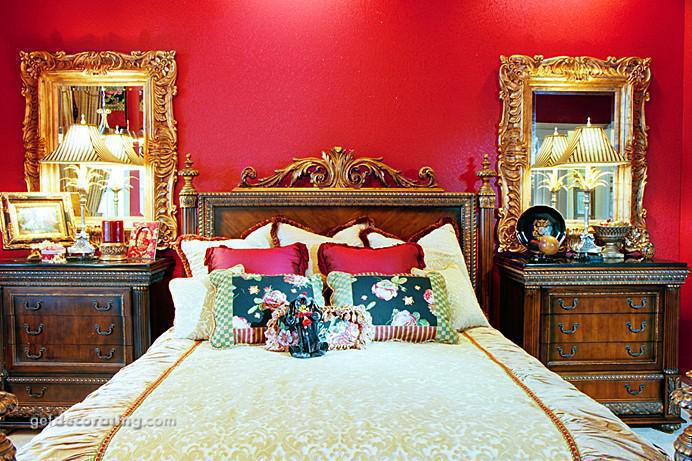Cama: (32, 212, 649, 459)
